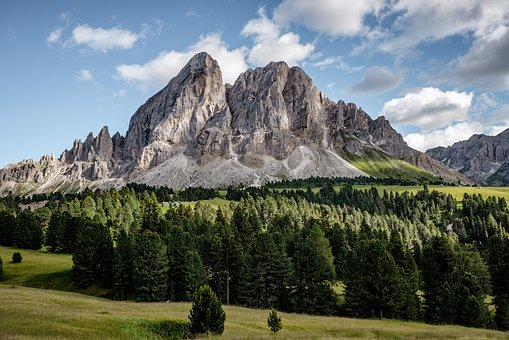forest: (9, 200, 509, 338)
mountain: (36, 78, 494, 183)
sky: (2, 1, 509, 127)
tree: (360, 237, 426, 323), (289, 235, 352, 312), (179, 233, 233, 306), (242, 233, 292, 306), (440, 252, 491, 323), (80, 224, 124, 293), (129, 234, 174, 299)
